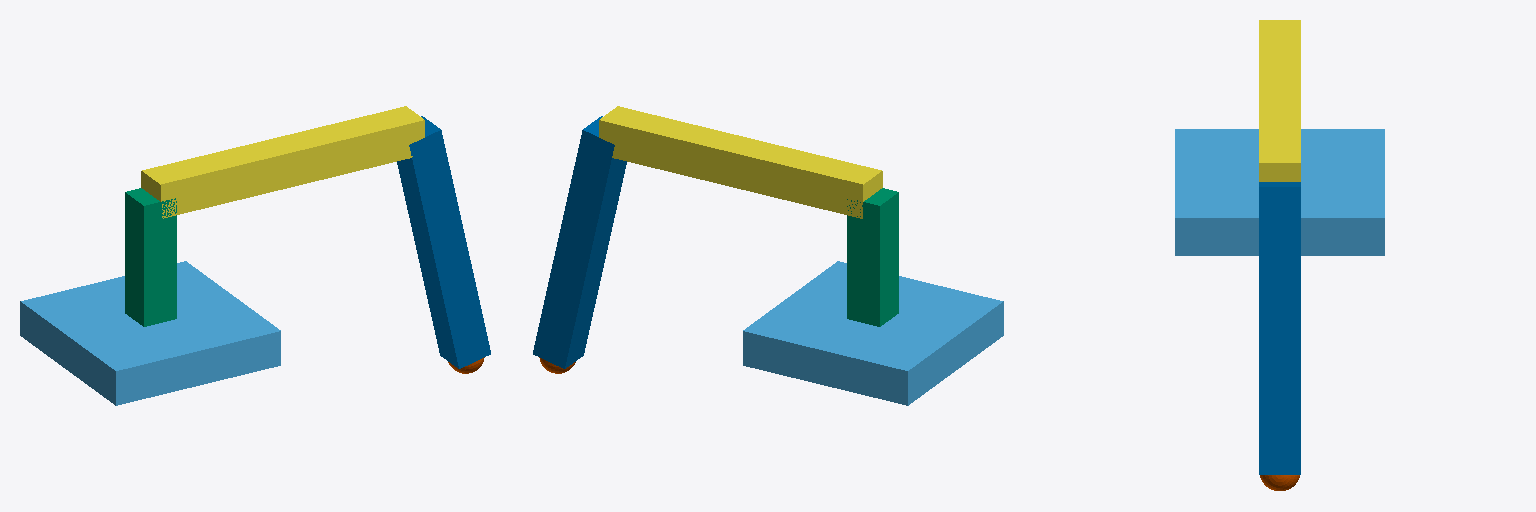
The robot description file, URDF, robot "my_robotic_arm":
<?xml version="1.0" ?>
<robot name="my_robotic_arm">

<link name="world"/>

<joint name="world_to_base_link" type="fixed">
    <parent link="world"/>
    <child link="base_link"/>
    <origin xyz="0 0 0" rpy="0 0 0"/>
</joint>

<link name="base_link">
    <visual>
        <origin xyz="0 0 0.01" rpy="0 0 0"/>
        <geometry>
            <box size="0.10 0.10 0.02"/>
        </geometry>
    </visual>
    <collision>
        <origin xyz="0 0 0.01" rpy="0 0 0"/>
        <geometry>
            <box size="0.10 0.10 0.02"/>
        </geometry>
    </collision>
</link>

<joint name="base_to_shoulder" type="revolute">
    <parent link="base_link"/>
    <child link="shoulder_link"/>
    <origin xyz="0 0 0" rpy="0 0 0"/>
    <axis xyz="0 0 1"/>
    <limit lower="-1.5708" upper="1.5708" effort="10" velocity="1"/>
</joint>

<link name="shoulder_link">
    <visual>
        <origin xyz="0 0 0.045" rpy="0 0 0"/>
        <geometry>
            <box size="0.02 0.02 0.09"/>
        </geometry>
    </visual>
    <collision>
        <origin xyz="0 0 0.045" rpy="0 0 0"/>
        <geometry>
            <box size="0.02 0.02 0.09"/>
        </geometry>
    </collision>
</link>

<joint name="shoulder_to_upper" type="revolute">
    <parent link="shoulder_link"/>
    <child link="upper_arm_link"/>
    <origin xyz="0 0 0.09" rpy="0 0 0"/>
    <axis xyz="0 -1 0"/>
    <limit lower="0" upper="1.5708" effort="10" velocity="1"/>
</joint>

<link name="upper_arm_link">
    <visual>
        <origin xyz="0.08 0 0" rpy="0 0 0"/>
        <geometry>
            <box size="0.16 0.02 0.02"/>
        </geometry>
    </visual>
    <collision>
        <origin xyz="0.08 0 0" rpy="0 0 0"/>
        <geometry>
            <box size="0.16 0.02 0.02"/>
        </geometry>
    </collision>
</link>

<joint name="upper_arm_to_forearm" type="revolute">
    <parent link="upper_arm_link"/>
    <child link="forearm_link"/>
    <origin xyz="0.16 0 0" rpy="0 0 0"/>
    <axis xyz="0 -1 0"/>
    <limit lower="-2.618" upper="-0.0873" effort="10" velocity="1"/>
</joint>

<link name="forearm_link">
    <visual>
        <origin xyz="0.07 0 0" rpy="0 0 0"/>
        <geometry>
            <box size="0.14 0.02 0.02"/>
        </geometry>
    </visual>
    <collision>
        <origin xyz="0.07 0 0" rpy="0 0 0"/>
        <geometry>
            <box size="0.14 0.02 0.02"/>
        </geometry>
    </collision>
</link>

<joint name="tip_joint" type="fixed">
    <parent link="forearm_link"/>
    <child link="tip_link"/>
    <origin xyz="0.14 0 0" rpy="0 0 0"/>
</joint>

<link name="tip_link">
    <visual>
        <geometry>
            <sphere radius="0.01"/>
        </geometry>
    </visual>
</link>

</robot>

--- What the picture shows (computed from the rendered views, not written in the file) ---
Views: 3 orthographic renders of the robot side by side, from view 1: azimuth 30°, elevation 25°; view 2: azimuth 150°, elevation 25°; view 3: azimuth 270°, elevation 25°.
Robot: my_robotic_arm — 6 links, 5 joints (3 revolute, 2 fixed); root link world; default pose: joints at zero except 1 at the middle of their limits (upper_arm_to_forearm = -1.35).
Visible links, largest first — view 1: base_link, upper_arm_link, forearm_link, shoulder_link; view 2: base_link, upper_arm_link, forearm_link, shoulder_link; view 3: base_link, forearm_link, upper_arm_link.
Boxes of the visible links, <box> form: base_link: <box>20,261,280,405</box>; upper_arm_link: <box>141,106,424,218</box>; forearm_link: <box>397,116,490,368</box>; shoulder_link: <box>125,188,176,326</box>; base_link: <box>743,261,1003,405</box>; upper_arm_link: <box>599,106,882,218</box>; forearm_link: <box>533,116,626,368</box>; shoulder_link: <box>847,188,898,326</box>; base_link: <box>1175,129,1384,255</box>; forearm_link: <box>1259,182,1300,474</box>; upper_arm_link: <box>1259,20,1300,181</box>.
Size in the robot's own frame: 0.2503 by 0.1 by 0.1567 metres.
Geometry: primitives only (box / cylinder / sphere), no mesh files.
